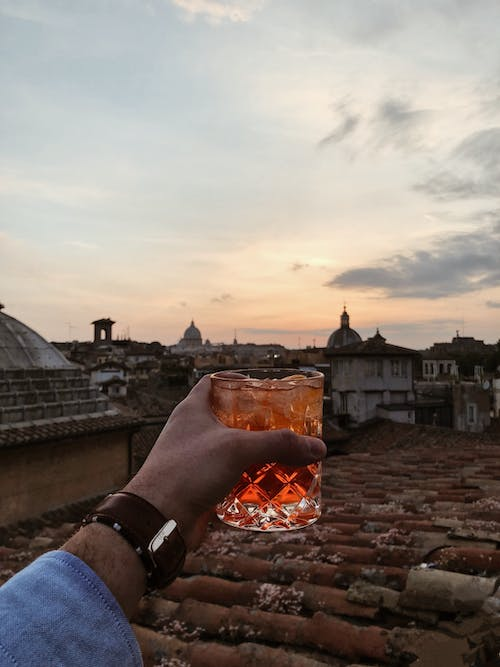alcohol: (208, 365, 326, 533)
